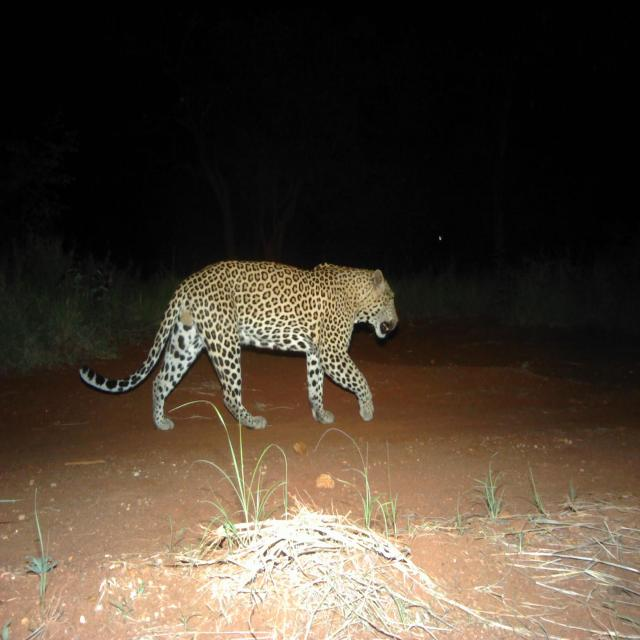Leopard: (84, 254, 393, 438)
